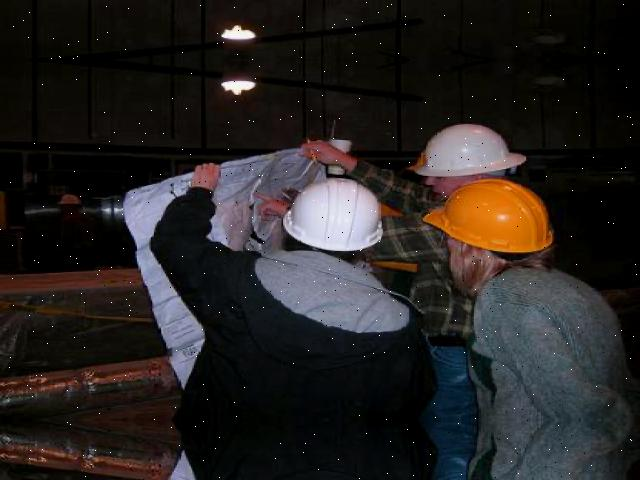Helmet: (418, 178, 566, 253), (277, 173, 389, 256), (405, 120, 531, 180)
